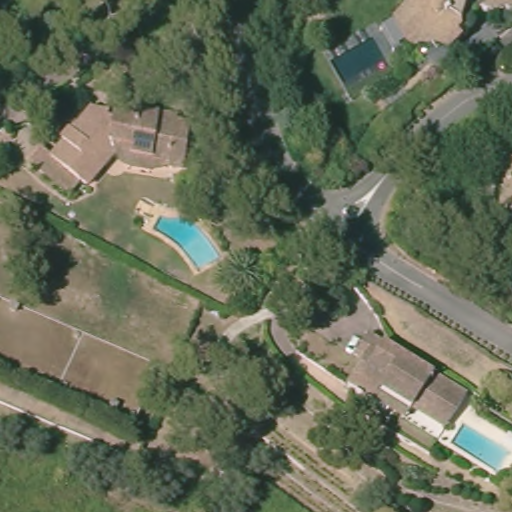pool: (146, 208, 222, 273), (447, 417, 512, 474)
